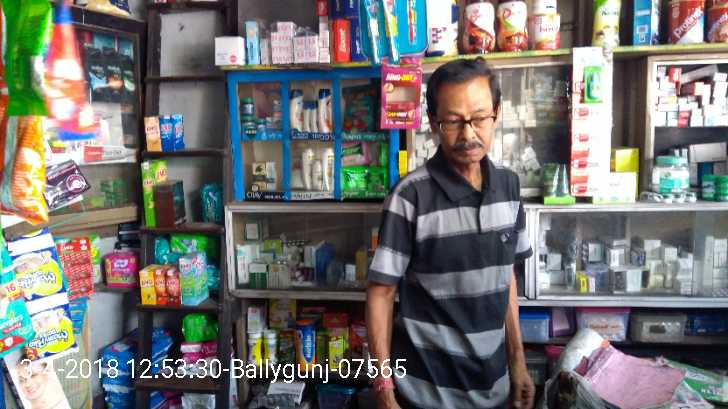oralcare: (360, 1, 402, 61)
vicks: (241, 96, 284, 129)
